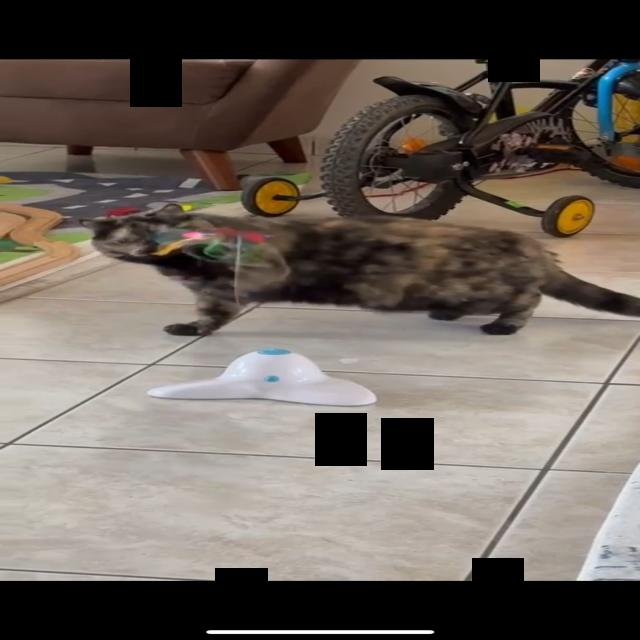authorized: (79, 202, 638, 337)
